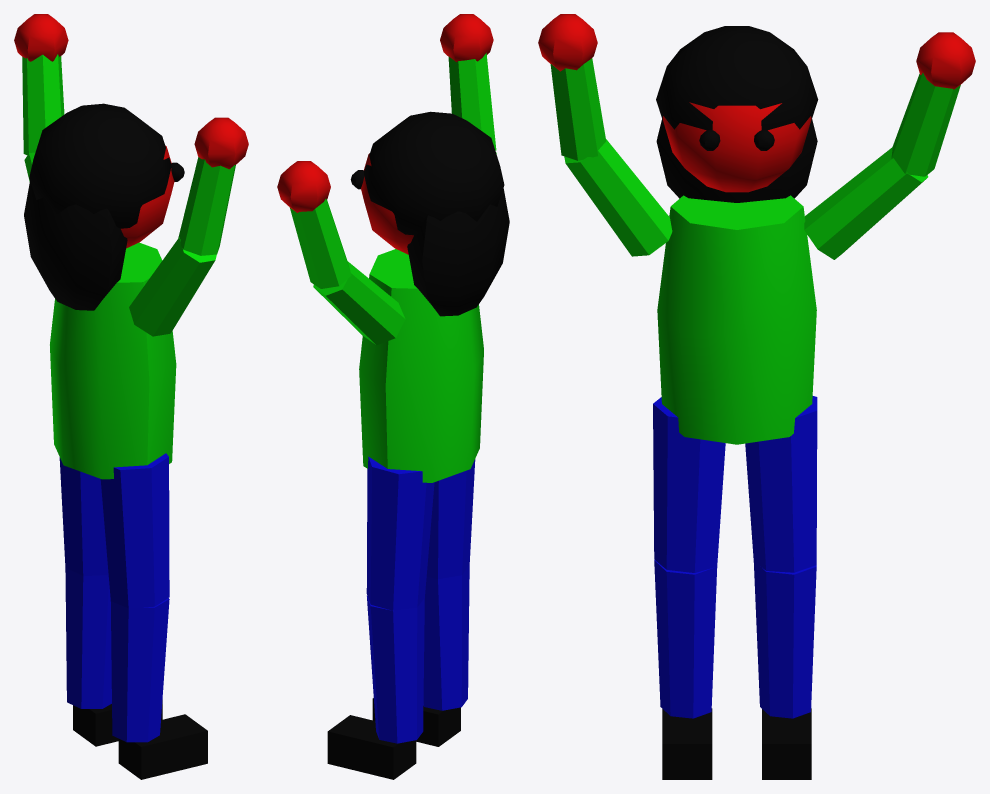
The model's file is SM_CrowdB.glb.
The picture shows the model from 3 angles, left to right: view 1: azimuth 30°, elevation 25°; view 2: azimuth 150°, elevation 25°; view 3: azimuth 270°, elevation 25°; orthographic projection. The views are drawn at different scales.
Parts seen in each view (by area): view 1: SM_CrowdB; view 2: SM_CrowdB; view 3: SM_CrowdB.
Part boxes in pixels (x1,y1,x2,y2): SM_CrowdB: [14, 14, 248, 779]; SM_CrowdB: [277, 14, 509, 779]; SM_CrowdB: [538, 14, 975, 779].
Size of the model in its own units: 0.3429 by 1.66 by 0.88.
